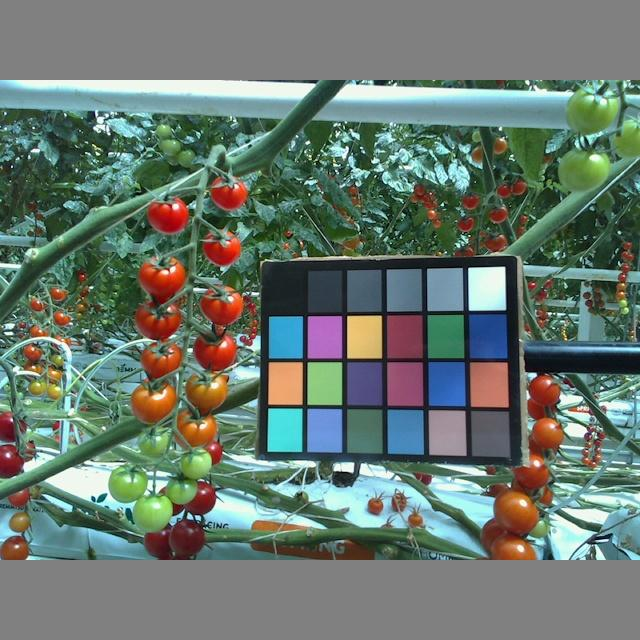green: (553, 145, 613, 195), (565, 86, 618, 135), (130, 493, 174, 534), (109, 465, 149, 501), (611, 113, 640, 157), (177, 448, 213, 477), (138, 426, 170, 457), (166, 476, 197, 506)
pink: (129, 376, 176, 421), (495, 488, 543, 531), (173, 407, 216, 445), (186, 372, 225, 411), (143, 342, 183, 376), (489, 534, 533, 560), (517, 454, 549, 486), (535, 417, 565, 450), (530, 374, 560, 406), (1, 536, 31, 559), (8, 513, 29, 532), (10, 491, 30, 507)
red: (137, 257, 188, 299), (199, 225, 245, 266), (199, 285, 244, 326), (138, 299, 180, 339), (194, 331, 239, 367), (146, 195, 188, 230), (181, 477, 217, 515), (212, 172, 248, 206), (172, 519, 206, 555), (140, 531, 172, 559), (1, 411, 27, 442), (1, 445, 21, 478)
